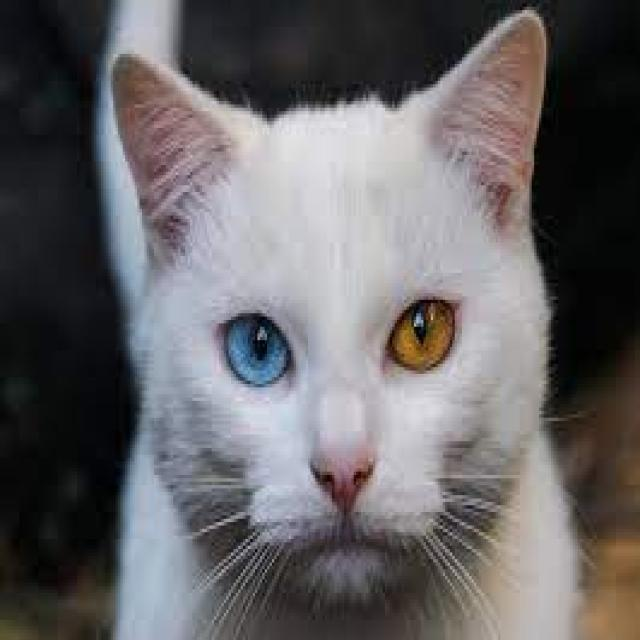da khoe manh: (194, 104, 406, 276)
